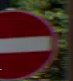No entry: (0, 5, 57, 80)
